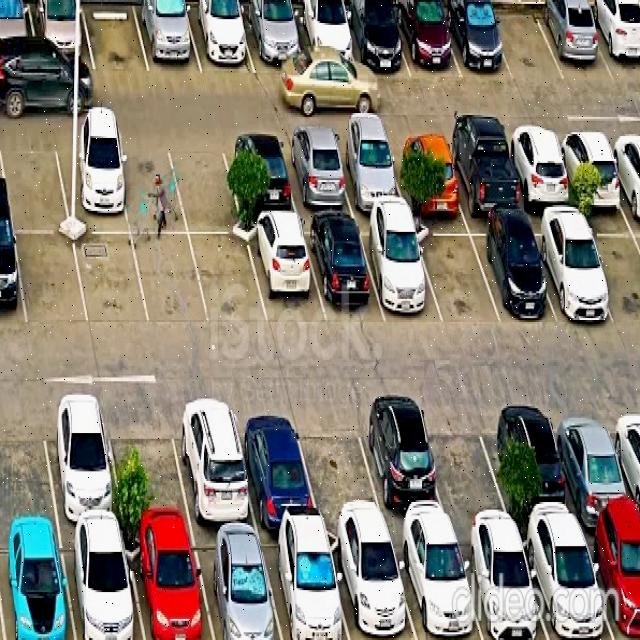empty: (422, 400, 514, 529), (294, 403, 387, 529), (105, 400, 193, 529), (413, 222, 500, 323), (166, 135, 244, 234), (0, 399, 58, 528), (114, 136, 188, 233), (132, 235, 210, 325), (74, 234, 149, 327), (190, 236, 267, 325), (15, 233, 88, 326), (0, 135, 70, 230), (583, 214, 640, 326), (487, 5, 564, 82), (82, 1, 149, 72)
occupied: (354, 401, 453, 530), (170, 398, 257, 529), (550, 399, 640, 525), (232, 402, 320, 527), (496, 399, 581, 528), (40, 398, 124, 528), (519, 526, 614, 640), (455, 530, 549, 640), (391, 530, 483, 640), (191, 531, 283, 640), (326, 531, 417, 640), (259, 531, 350, 640), (124, 531, 213, 640), (526, 215, 616, 320), (61, 530, 144, 640), (467, 221, 555, 322), (357, 221, 443, 323), (245, 220, 326, 326), (302, 220, 385, 321), (0, 530, 75, 640), (53, 136, 130, 233), (581, 523, 640, 640), (443, 133, 523, 214), (221, 135, 299, 217), (388, 134, 465, 212), (279, 135, 355, 214), (534, 5, 614, 80), (331, 134, 407, 212), (503, 131, 577, 209), (555, 130, 627, 207), (441, 3, 513, 79), (392, 2, 462, 78), (339, 6, 410, 76), (185, 4, 255, 73), (134, 2, 202, 73), (288, 8, 358, 75), (28, 2, 95, 70), (240, 8, 306, 73), (585, 7, 640, 80), (0, 2, 40, 70), (0, 228, 26, 326)
